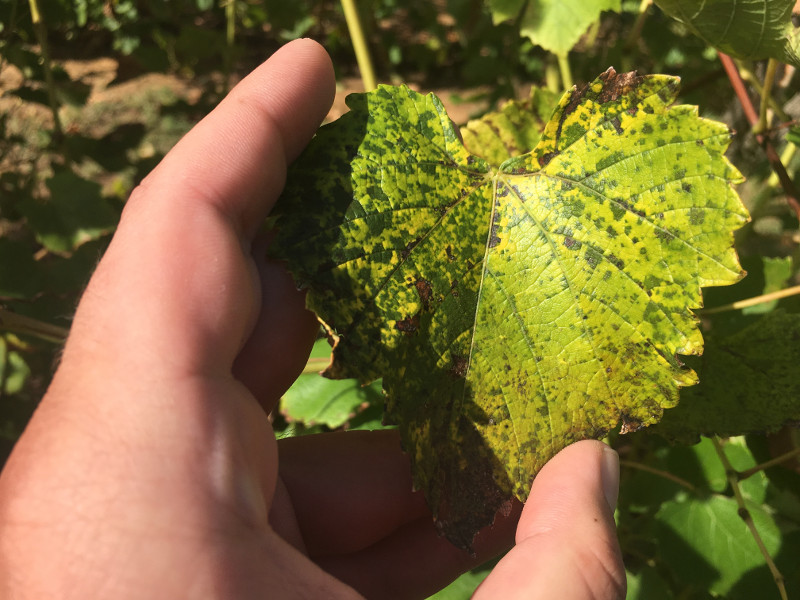downy: (490, 182, 693, 385), (371, 197, 476, 302), (366, 99, 456, 189), (562, 95, 649, 183), (662, 103, 739, 180), (485, 393, 553, 461), (566, 389, 609, 432), (698, 243, 740, 285), (700, 191, 737, 228)
